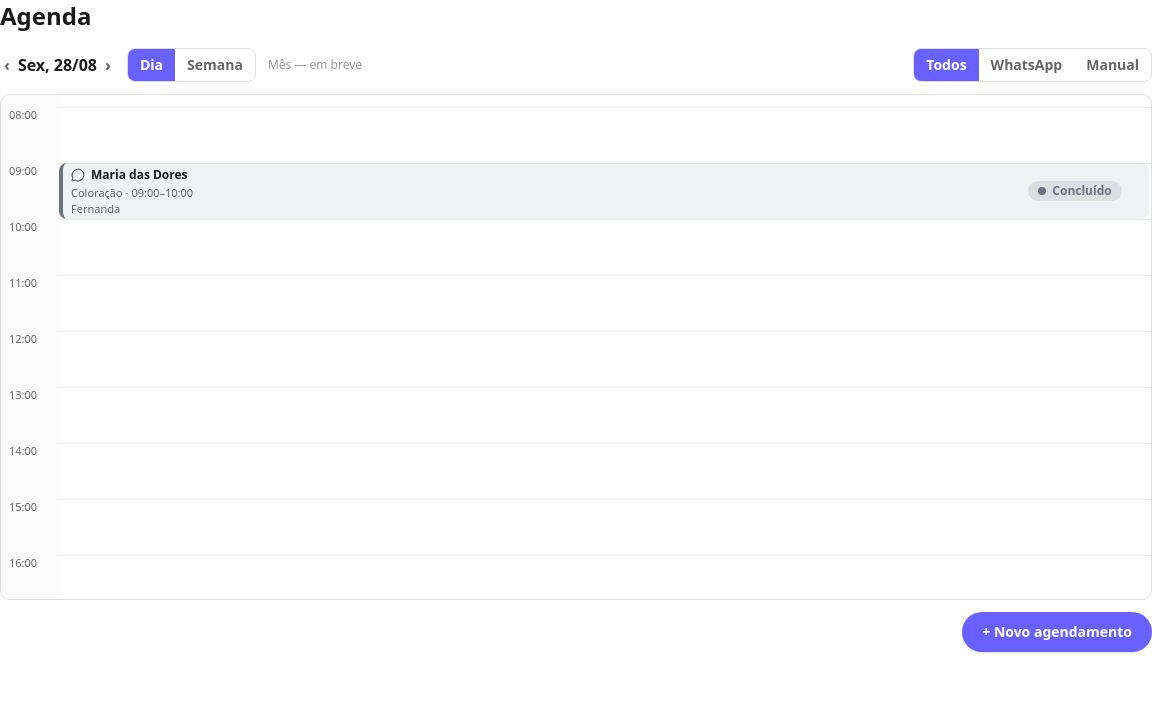
Test: Agenda › não oferece cancelar para status não-cancelável (concluído)
Click the text "Maria das Dores": (139,175) [91,167,188,183]
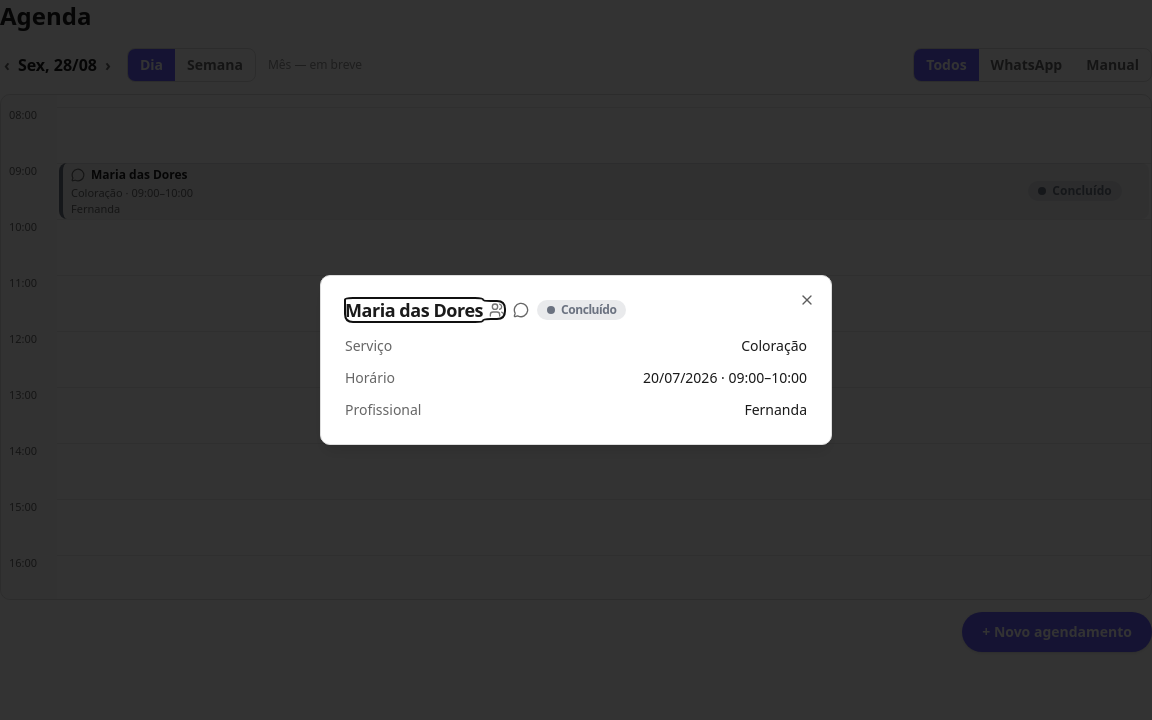
Expected: the dialog is shown, [320,275,832,445]
